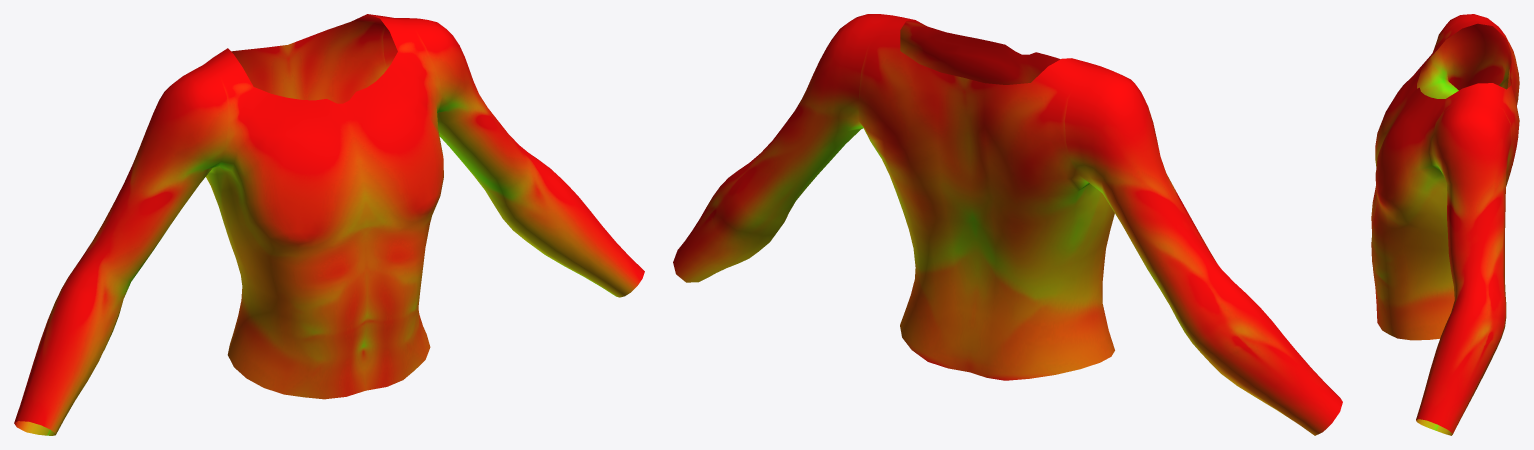
The model's file is BSMC_Outfit_Top_Naked.obj.
3 renders of one model, left to right at view 1: azimuth 30°, elevation 25°; view 2: azimuth 150°, elevation 25°; view 3: azimuth 270°, elevation 25°, orthographic. The views are drawn at different scales.
Parts seen in each view (by area): view 1: BSMC_Outfit_Top_Naked_0; view 2: BSMC_Outfit_Top_Naked_0; view 3: BSMC_Outfit_Top_Naked_0.
Part boxes in pixels (bbox=[...]): BSMC_Outfit_Top_Naked_0: bbox=[14, 14, 644, 435]; BSMC_Outfit_Top_Naked_0: bbox=[673, 14, 1342, 435]; BSMC_Outfit_Top_Naked_0: bbox=[1371, 14, 1519, 435].
Size of the model in its own units: 0.8462 by 0.4061 by 0.208.
1 material, 1 textured.
